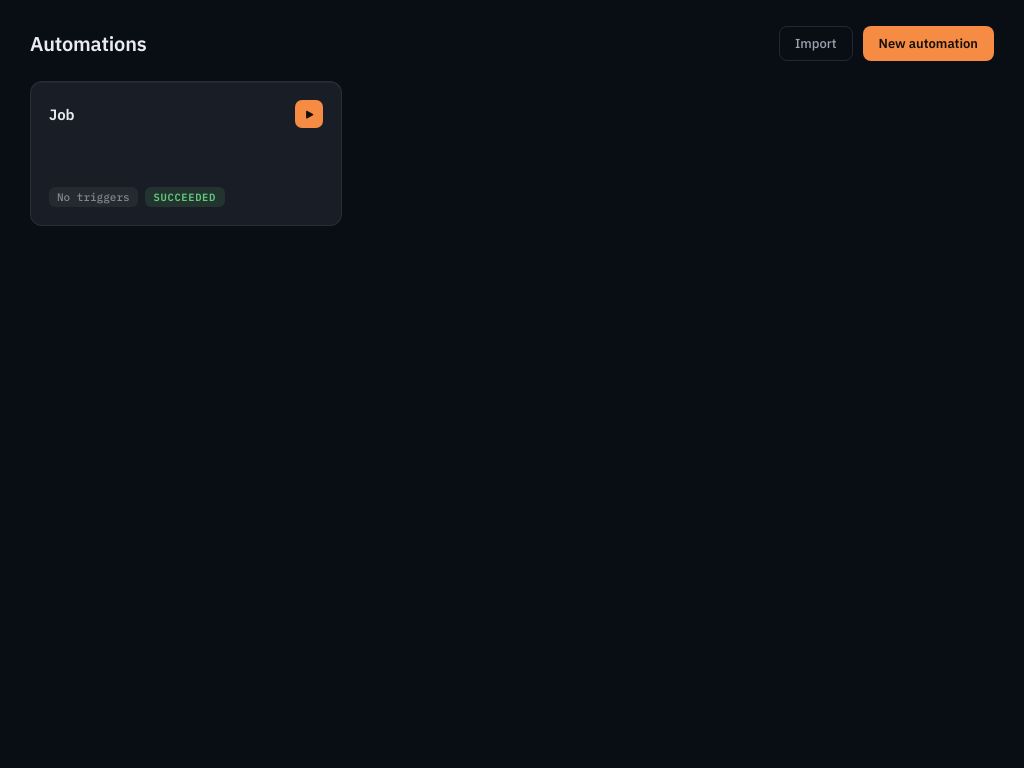
it: §9.1 import entry point › the Import button opens the import modal
Click the button "Import" at (816, 44), box top-left (779, 26), bottom-right (852, 61)
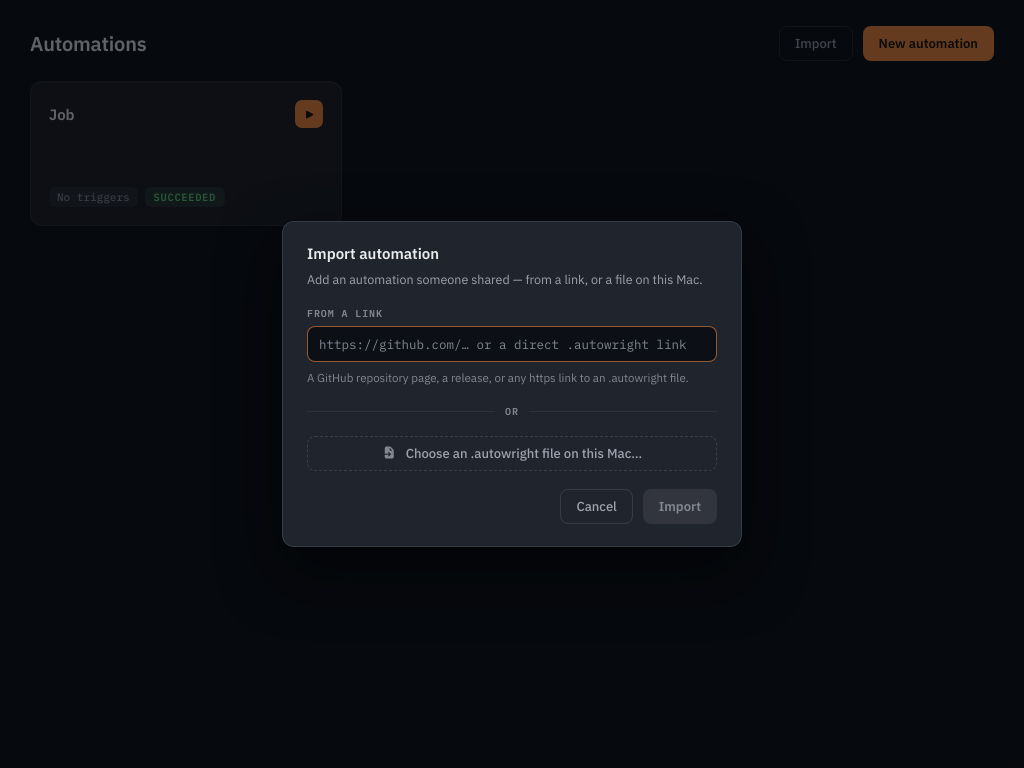
Now the heading "Import automation" is shown, box top-left (307, 244), bottom-right (439, 263)
Now the field with placeholder "https://github.com/… or a direct .autowright link" is shown, box top-left (307, 326), bottom-right (717, 362)
